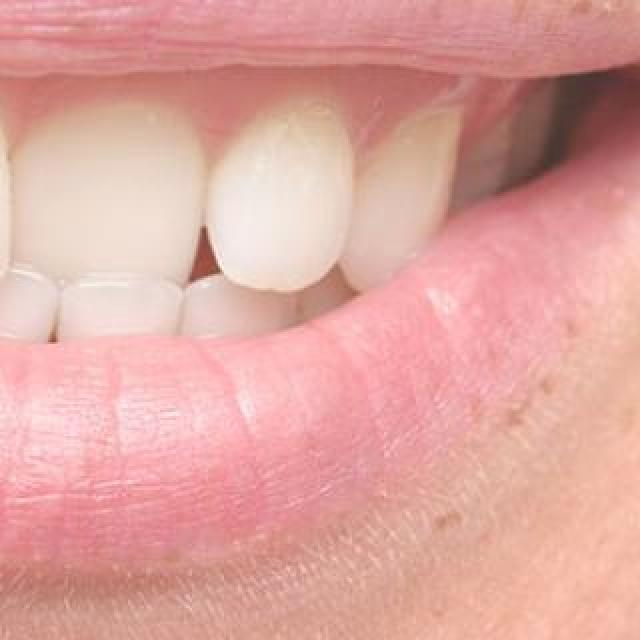maligned: (15, 65, 237, 291), (30, 255, 200, 345), (0, 248, 70, 346)
